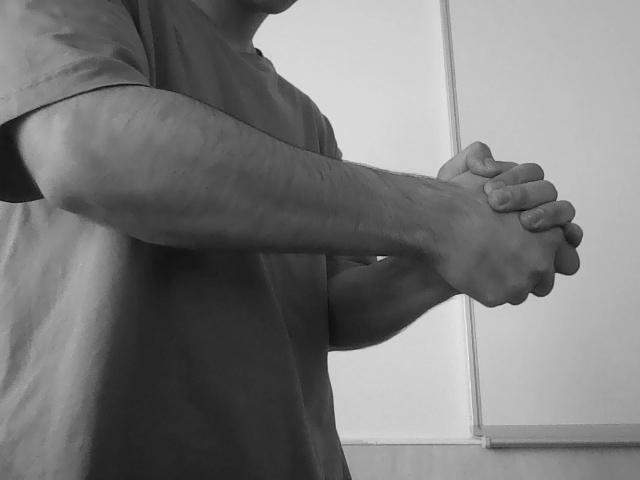friend: (392, 141, 587, 310)
